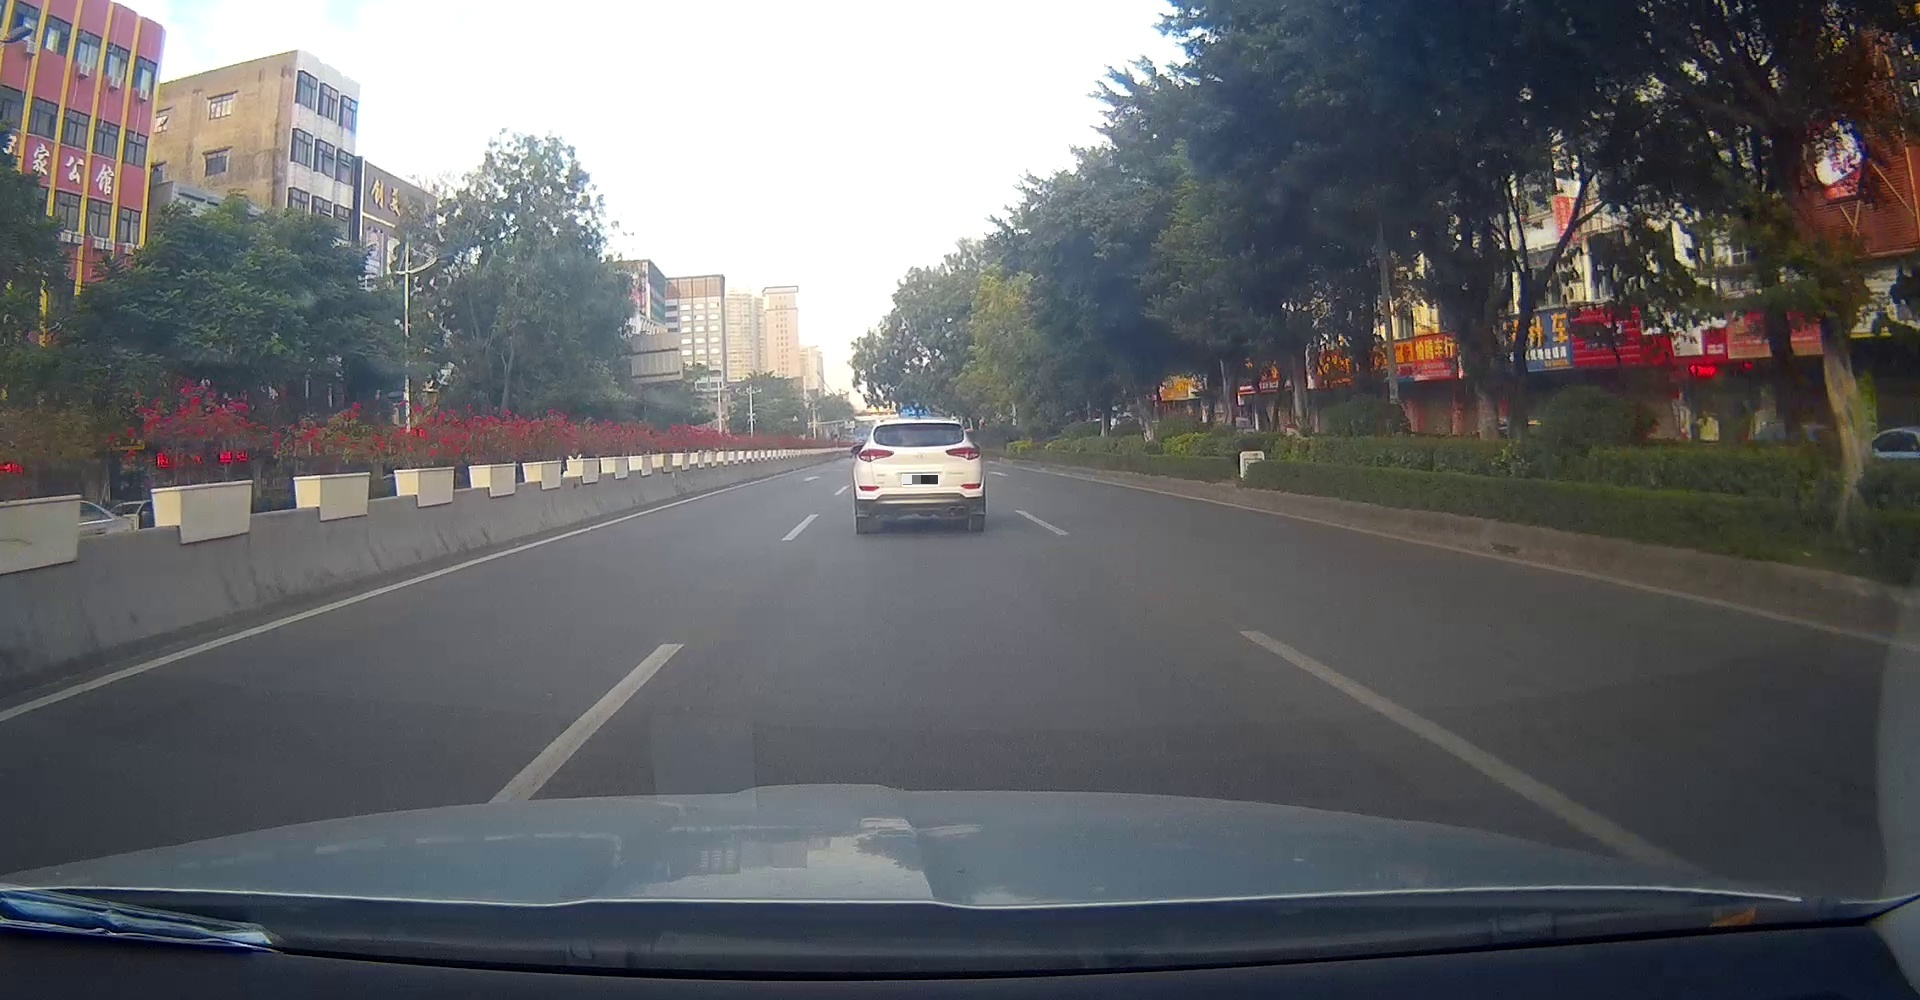L_light: (858, 448, 894, 463)
R_light: (945, 447, 980, 459)
T_light: (910, 424, 932, 428)
day-no: (855, 419, 982, 534)
plate_1: (903, 475, 938, 485)
